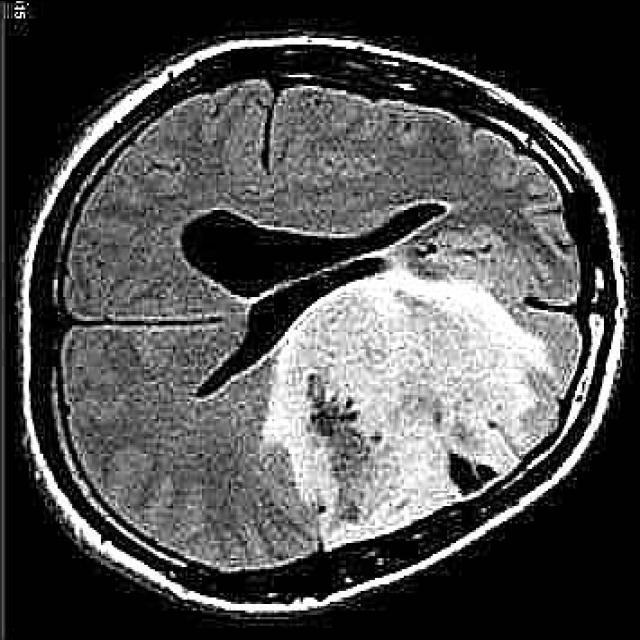tumor: (261, 268, 559, 549)
